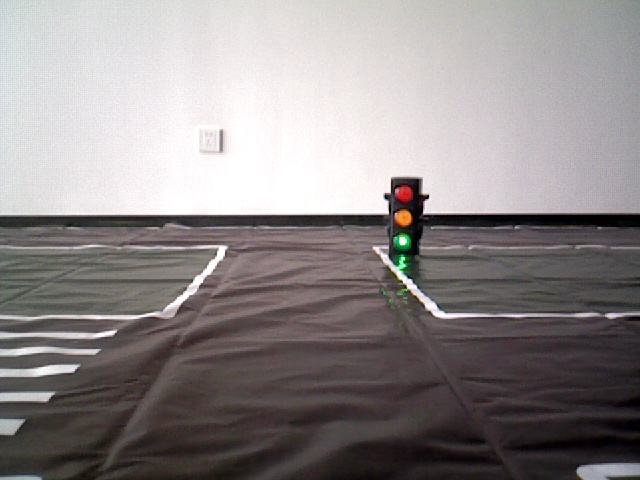green: (391, 178, 413, 255)
